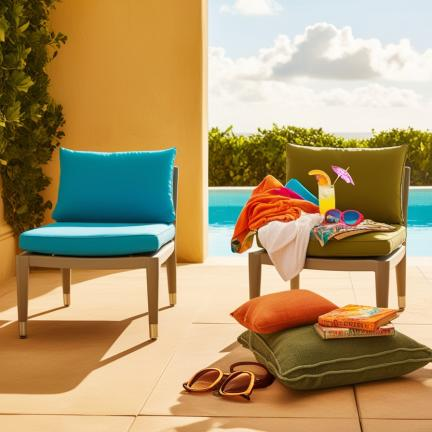empty chair: (17, 148, 178, 339)
occupied chair: (231, 143, 410, 309)
